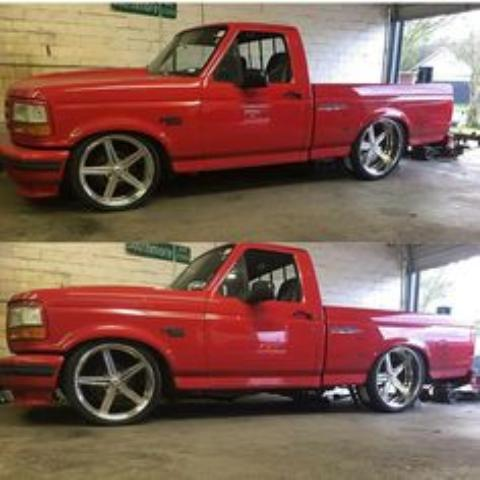car: (7, 231, 471, 429)
pickup-truck: (2, 20, 456, 212)
